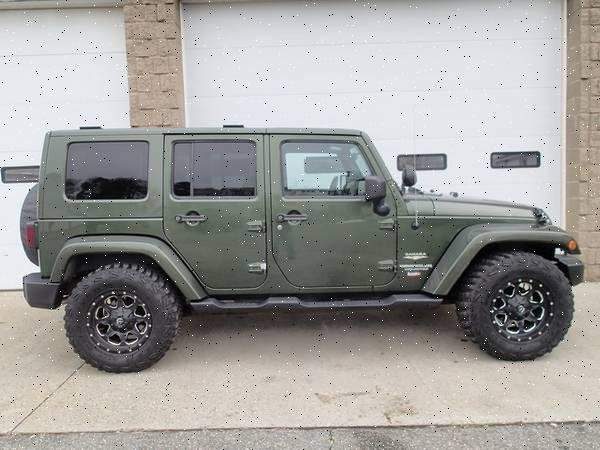Front_Bumper: (553, 253, 584, 284)
Front_Fender: (397, 216, 583, 299)
Front_Right_Door: (270, 193, 398, 293)
Front_Right_Window: (267, 127, 398, 195)
Hood: (398, 193, 549, 222)
Rear_Bumper: (21, 268, 60, 310)
Rear_Fender: (35, 129, 209, 300)
Rear_Right_Door: (164, 197, 274, 295)
Rear_Right_Window: (164, 126, 269, 197)
Right_Taillight: (25, 221, 38, 249)
Wheel: (60, 261, 178, 375), (459, 249, 574, 359)
